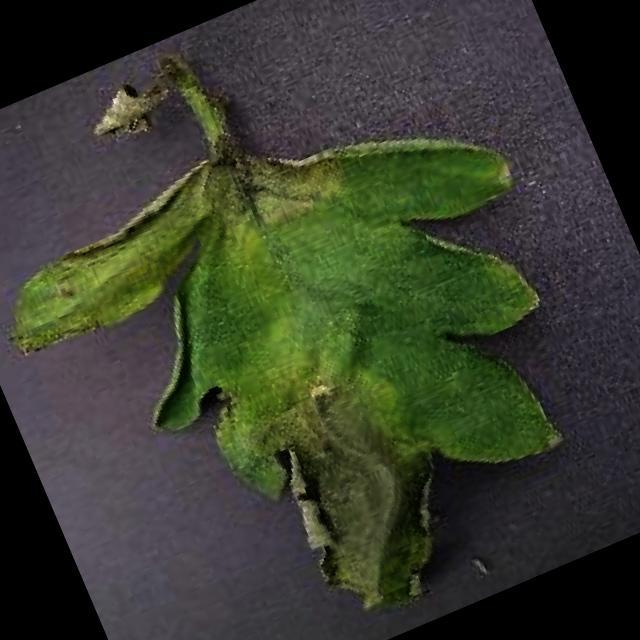Tomato late blight leaf: (0, 51, 640, 640)
